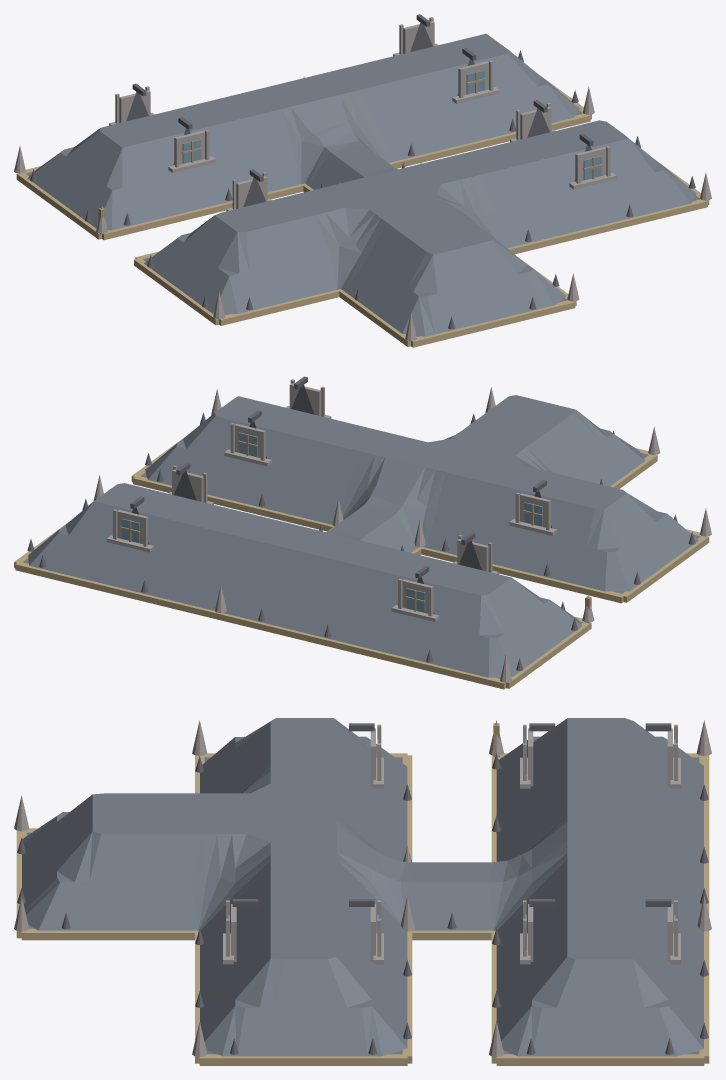
Rendered from roof.glb.
3 views of the same model, one above another, from view 1: azimuth 30°, elevation 25°; view 2: azimuth 150°, elevation 25°; view 3: azimuth 270°, elevation 25° (orthographic). The views are drawn at different scales.
Visible parts, largest first — view 1: outline-faithful-mansard-roof, polygon-eave-9, polygon-eave-0, polygon-eave-13, polygon-eave-4, polygon-eave-18, polygon-eave-3, polygon-eave-7, polygon-eave-6, polygon-eave-5; view 2: outline-faithful-mansard-roof, polygon-eave-17, polygon-eave-15, polygon-eave-2, polygon-eave-11, polygon-eave-3, polygon-eave-18, polygon-eave-16, dormer-0-9-front-wall; view 3: outline-faithful-mansard-roof, polygon-eave-14, polygon-eave-10, polygon-eave-8, polygon-eave-12, polygon-eave-15, polygon-eave-11, polygon-eave-17, polygon-eave-2, polygon-eave-0, polygon-eave-13.
Part boxes in pixels (x1=…): outline-faithful-mansard-roof: x1=26, y1=33, x2=699, y2=336; polygon-eave-9: x1=508, y1=199, x2=707, y2=254; polygon-eave-0: x1=102, y1=183, x2=306, y2=240; polygon-eave-13: x1=389, y1=113, x2=590, y2=168; polygon-eave-4: x1=219, y1=289, x2=341, y2=325; polygon-eave-18: x1=16, y1=173, x2=101, y2=239; polygon-eave-3: x1=134, y1=258, x2=218, y2=325; polygon-eave-7: x1=492, y1=300, x2=575, y2=327; polygon-eave-6: x1=411, y1=320, x2=493, y2=347; polygon-eave-5: x1=338, y1=289, x2=410, y2=346; outline-faithful-mansard-roof: x1=23, y1=395, x2=699, y2=678; polygon-eave-17: x1=300, y1=632, x2=505, y2=689; polygon-eave-15: x1=15, y1=562, x2=219, y2=619; polygon-eave-2: x1=418, y1=547, x2=624, y2=603; polygon-eave-11: x1=133, y1=476, x2=333, y2=531; polygon-eave-3: x1=620, y1=536, x2=709, y2=602; polygon-eave-18: x1=506, y1=622, x2=591, y2=688; polygon-eave-16: x1=219, y1=613, x2=301, y2=639; dormer-0-9-front-wall: x1=289, y1=383, x2=321, y2=415; outline-faithful-mansard-roof: x1=22, y1=718, x2=703, y2=1056; polygon-eave-14: x1=496, y1=1054, x2=704, y2=1065; polygon-eave-10: x1=199, y1=1054, x2=407, y2=1065; polygon-eave-8: x1=21, y1=928, x2=198, y2=940; polygon-eave-12: x1=407, y1=930, x2=495, y2=940; polygon-eave-15: x1=699, y1=931, x2=709, y2=1063; polygon-eave-11: x1=402, y1=932, x2=412, y2=1063; polygon-eave-17: x1=699, y1=755, x2=709, y2=880; polygon-eave-2: x1=402, y1=755, x2=412, y2=861; polygon-eave-0: x1=491, y1=755, x2=501, y2=862; polygon-eave-13: x1=491, y1=933, x2=496, y2=1063.
Size of the model in its own units: 14.94 by 2.29 by 14.34.
